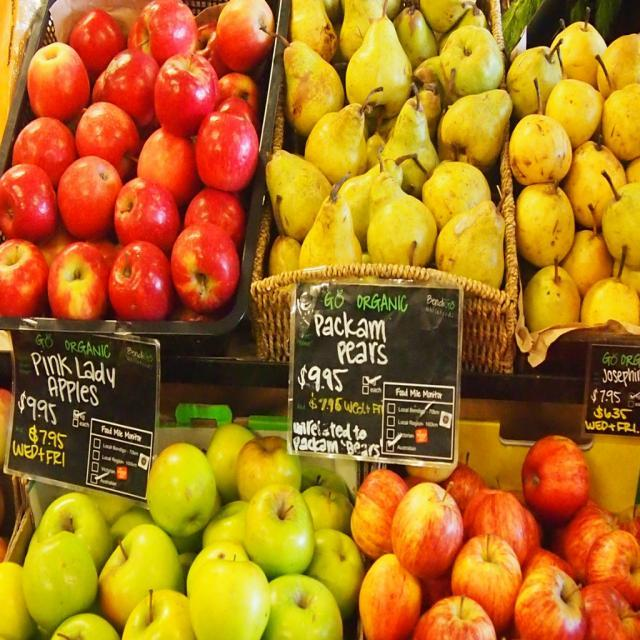Apple pie: (0, 0, 290, 332), (0, 420, 380, 640), (352, 434, 640, 639)
